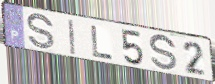2: (182, 41, 207, 78)
5: (121, 28, 145, 67)
I: (67, 18, 77, 56)
L: (89, 24, 115, 62)
S: (148, 34, 179, 73), (26, 13, 56, 52)
